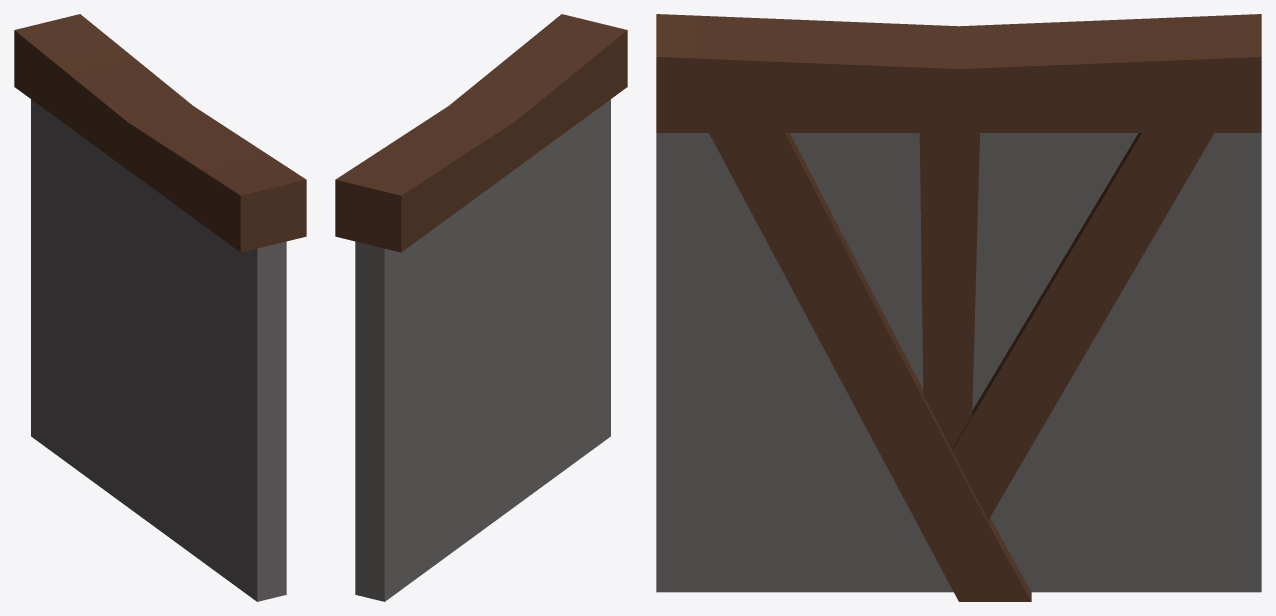
Rendered from Muur_4.fbx.
3 renders of one model, left to right at view 1: azimuth 30°, elevation 25°; view 2: azimuth 150°, elevation 25°; view 3: azimuth 270°, elevation 25°, orthographic. The views are drawn at different scales.
Visible parts, largest first — view 1: muur_4; view 2: muur_4; view 3: muur_4.
Boxes of the visible parts, left/top/right/bottom form: muur_4: left=14, top=14, right=306, bottom=601; muur_4: left=335, top=14, right=627, bottom=601; muur_4: left=656, top=14, right=1261, bottom=601.
Bounding box in the file's own units: 0.3358 × 2 × 2.
